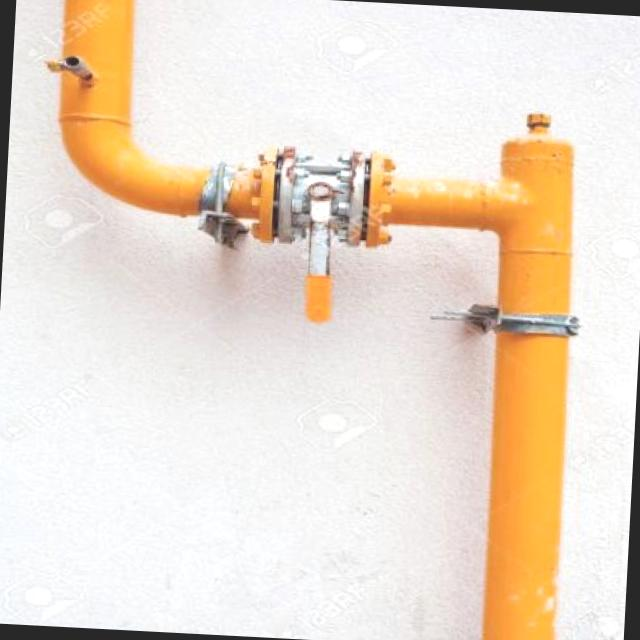gas: (478, 139, 582, 640), (56, 152, 579, 235), (57, 0, 146, 212)
